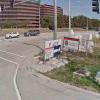Car: (4, 21, 41, 40)
